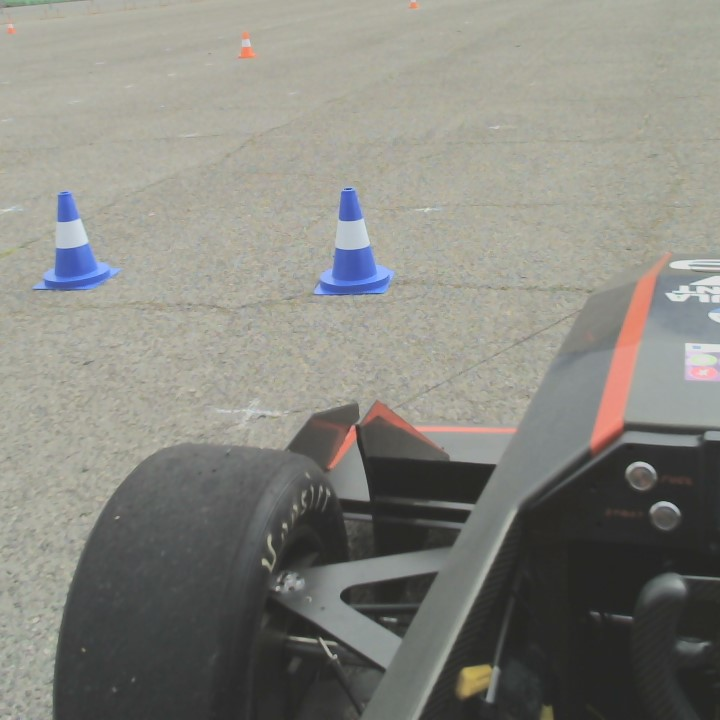cone: (314, 188, 391, 296), (35, 189, 115, 290)
